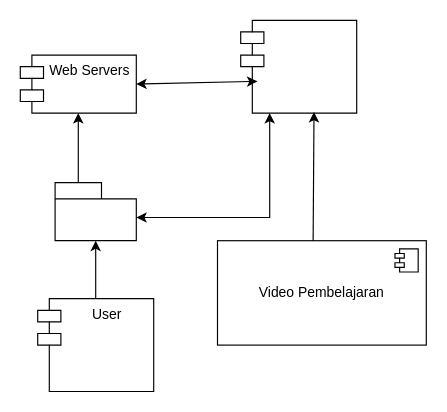
Image size: 447x412. Some labels were removed from this diagram. Here are the shapes that lost their labels. From the top down, the centre of each, then its label:
At point 298,66: "Database".
At point 95,211: "Login".
